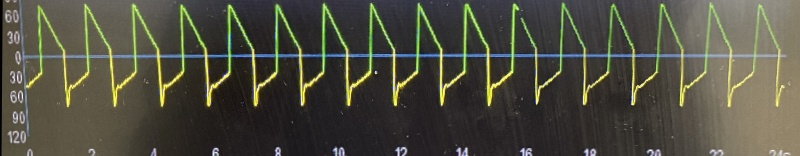peepi: (24, 0, 796, 111)
